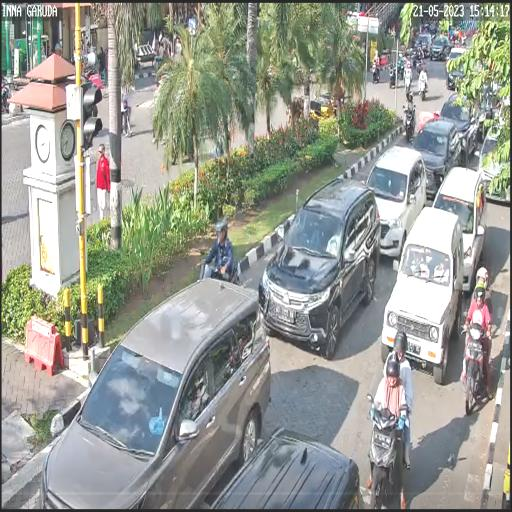mobil: (29, 280, 289, 512), (258, 181, 382, 361), (381, 209, 464, 384), (434, 159, 489, 287), (365, 143, 428, 248)
motor: (366, 389, 414, 506), (461, 300, 494, 428)
